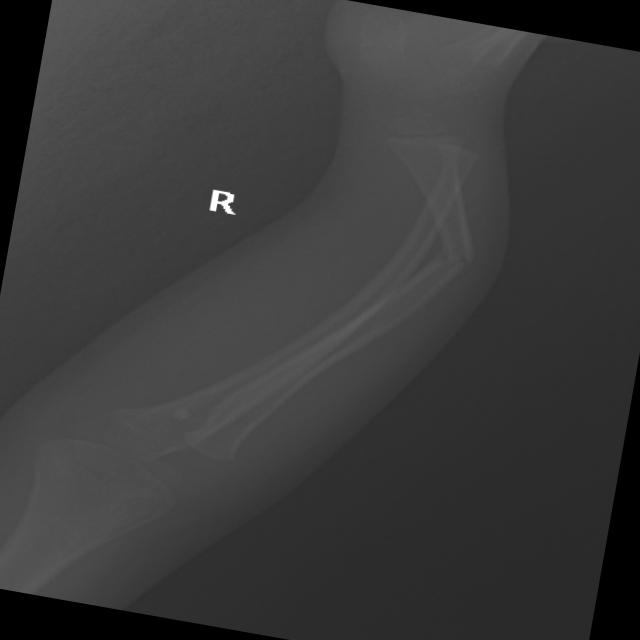forearm fracture: (370, 189, 520, 325)
